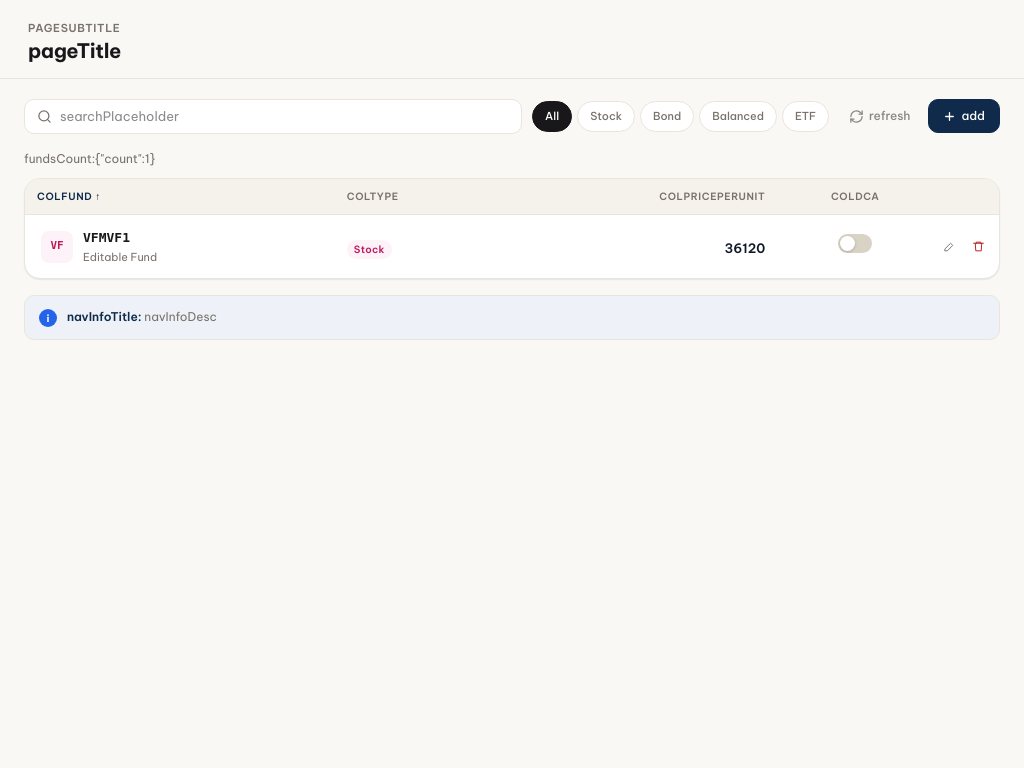
Test: DesktopFundLibraryView — modals › opens the edit modal prefilled with the fund name
This screenshot has width=1024, height=768.
Click the button with test id "fund-edit-btn" at (950, 246), box [937,234,962,259]
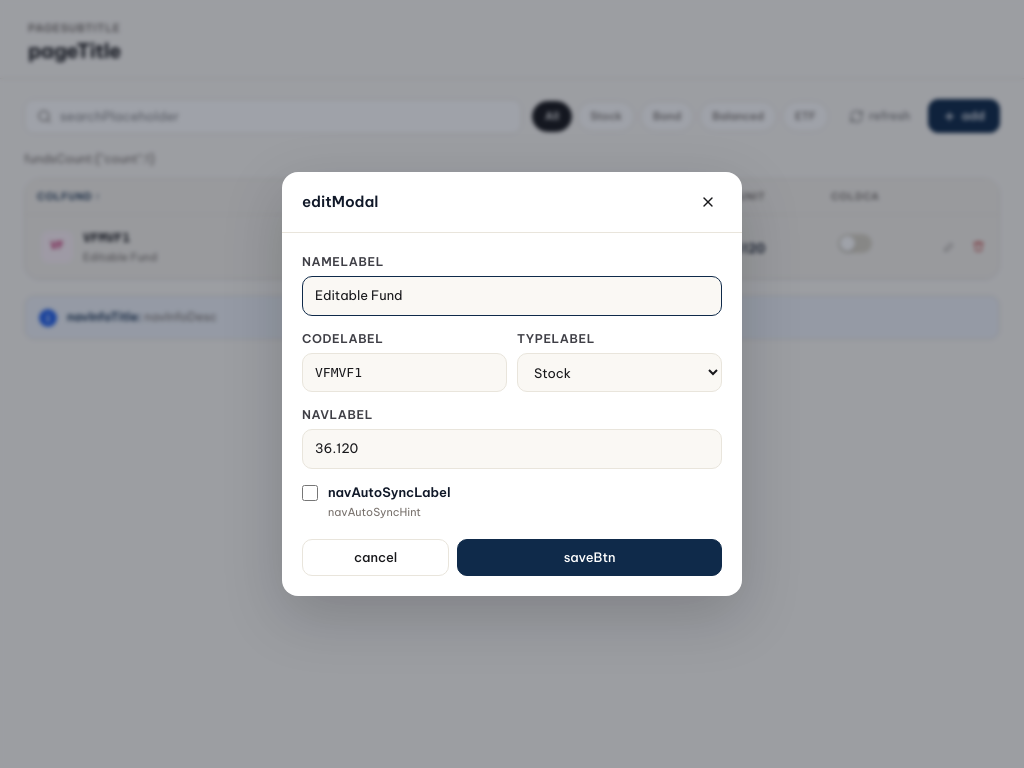
Expected: the dialog with test id "fund-modal" is shown, [282,172,742,596]
Expected: the field showing "Editable Fund" below "nameLabel" is shown, [302,276,722,316]
